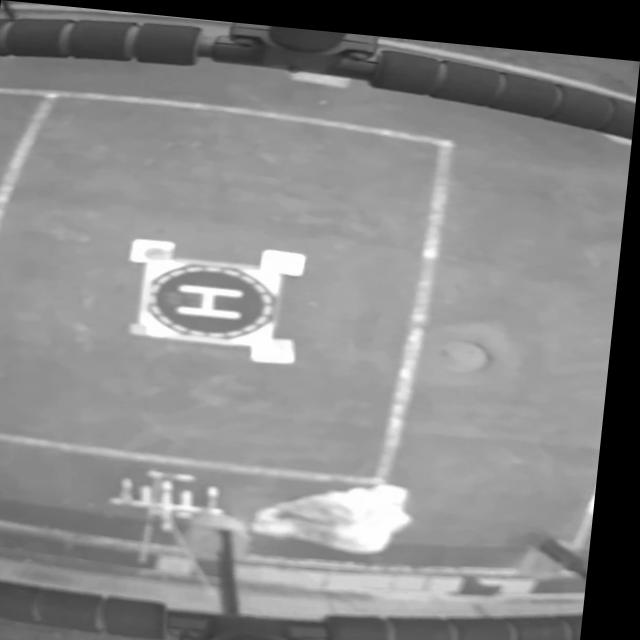Helipad: (180, 280, 247, 314)
